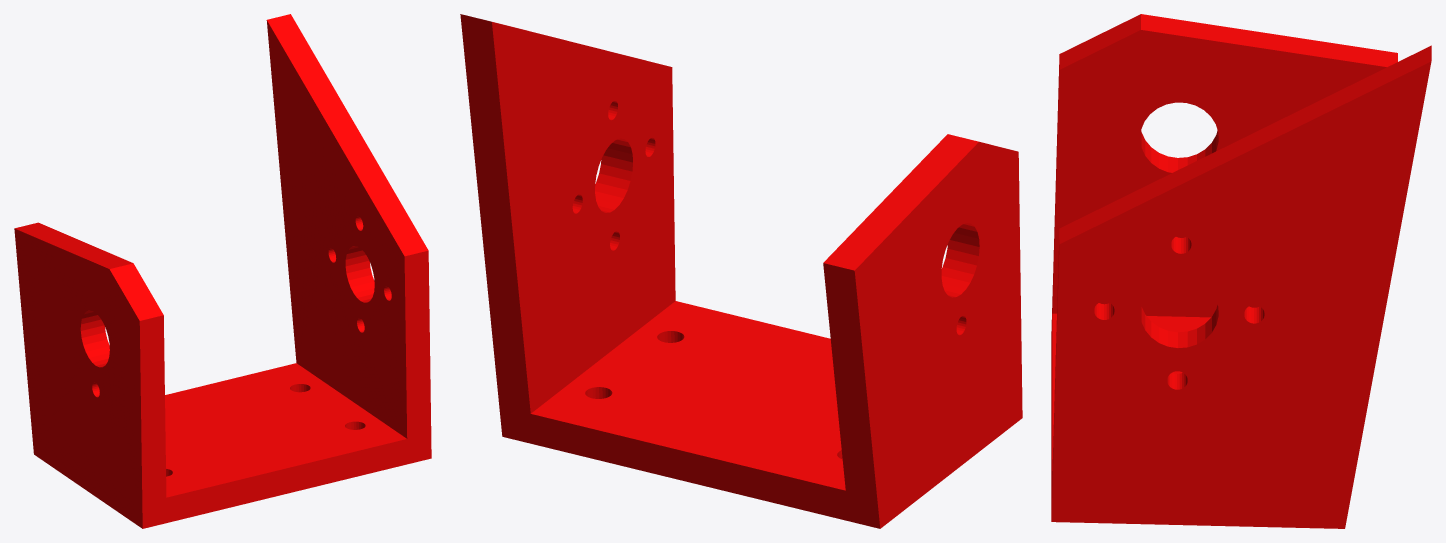
The model's file is elbow_right.dae.
3 views of the same model, side by side, from view 1: azimuth 30°, elevation 25°; view 2: azimuth 150°, elevation 25°; view 3: azimuth 270°, elevation 25° (orthographic). The views are drawn at different scales.
Parts seen in each view (by area): view 1: node0; view 2: node0; view 3: node0.
Boxes of the visible parts, box(x1,y1,x2,y2) form: node0: box(14, 14, 431, 528); node0: box(460, 14, 1022, 528); node0: box(1051, 14, 1431, 528).
Size of the model in its own units: 48 by 40.52 by 55.02.
